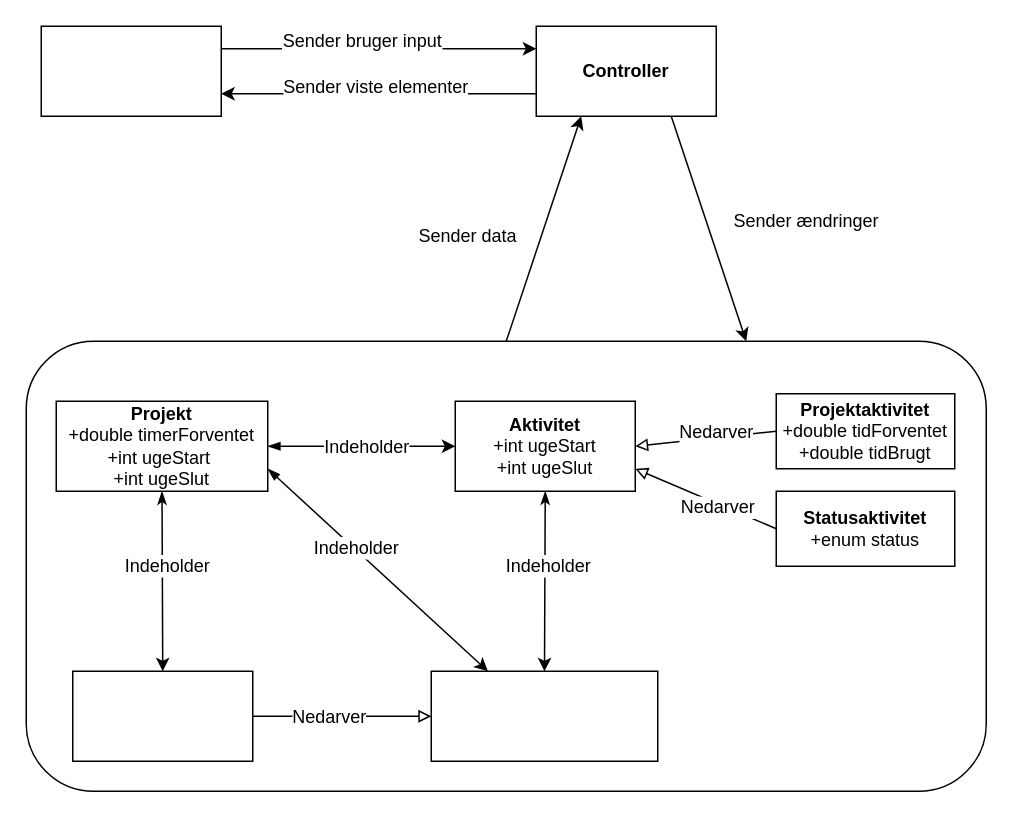
The diagram is 1013 pixels wide and 818 high, and some of its shapes have lost their labels. The shapes that lost their labels are listed below. From the top down, each one's centre as x and y in pixels, then its label:
the point at 130,70: View
the point at 162,715: Projektleder
the point at 544,715: Medarbejder +enum status +double timerArbejdet
